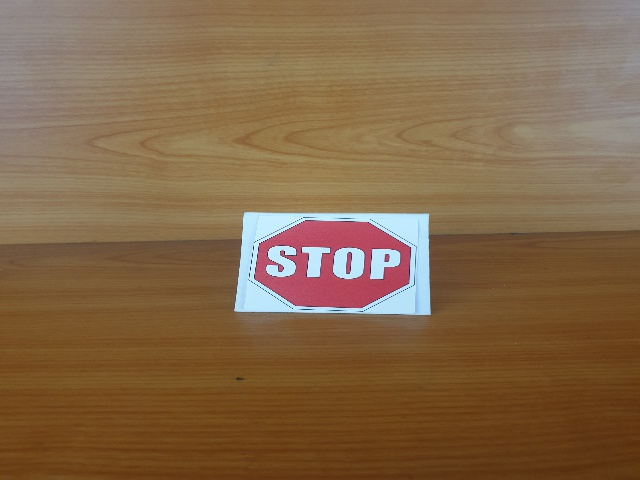Stop: (250, 219, 416, 313)
